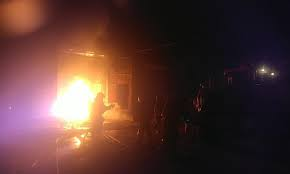fire: (28, 63, 113, 131)
